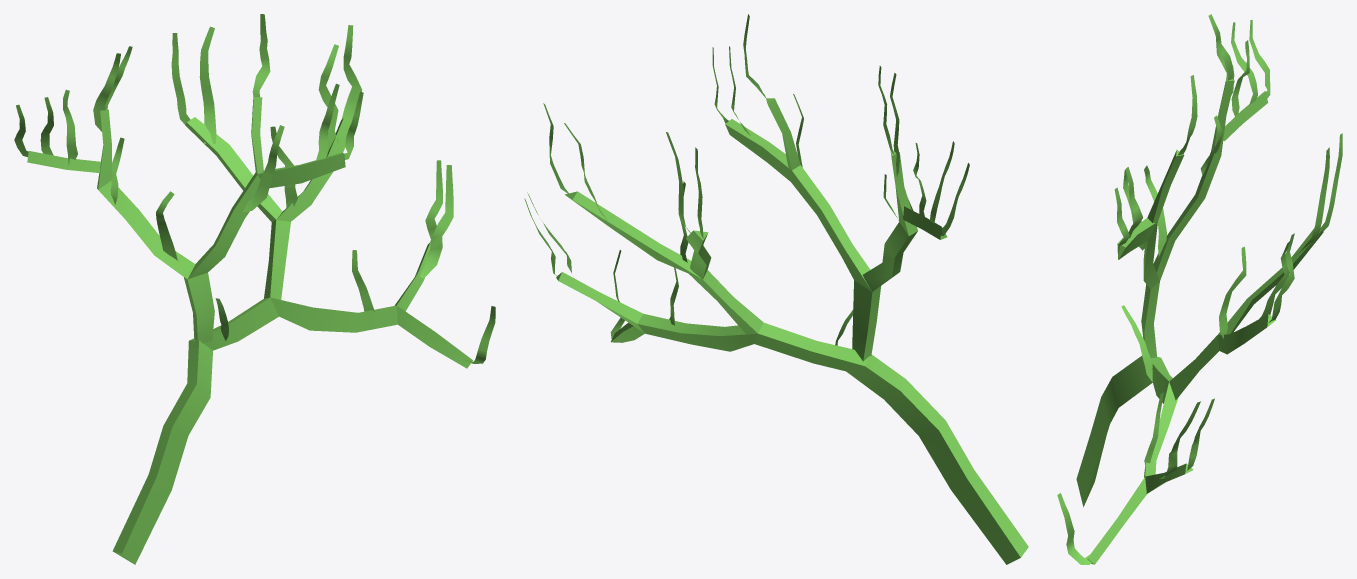
The model's file is coral_A_light.fbx.
The picture shows the model from 3 angles, left to right: view 1: azimuth 30°, elevation 25°; view 2: azimuth 150°, elevation 25°; view 3: azimuth 270°, elevation 25°; orthographic projection. The views are drawn at different scales.
Visible parts, largest first — view 1: coral_A_light; view 2: coral_A_light; view 3: coral_A_light.
Boxes of the visible parts, box(x1,y1,x2,y2) form: coral_A_light: box(14, 14, 495, 564); coral_A_light: box(524, 14, 1028, 564); coral_A_light: box(1057, 14, 1342, 564).
Size of the model in its own units: 83.79 by 91.98 by 45.06.
